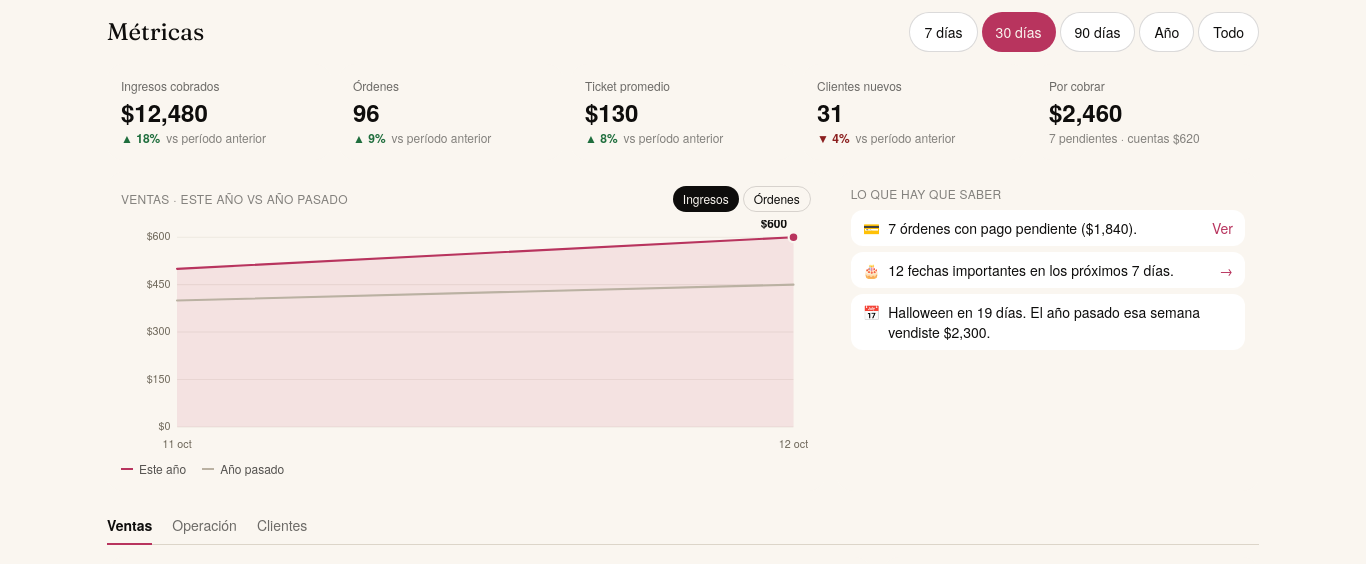
it: MetricsView › keeps the old data, warns, and restores the pill when the fetch fails
Click the button "7 días" at (944, 32), box [910,12,978,52]
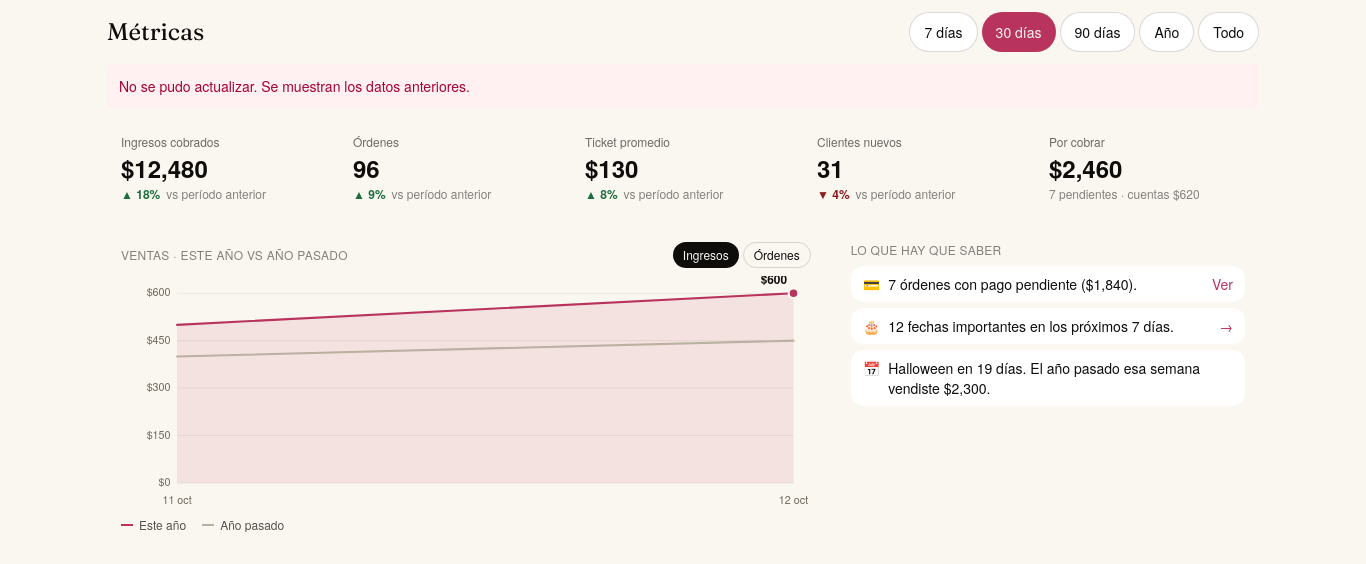
Expected: the text "96" is shown, [353,151,380,185]
Result: the message reads "No se pudo actualizar. Se muestran los datos anteriores." at [119,76,470,96]
